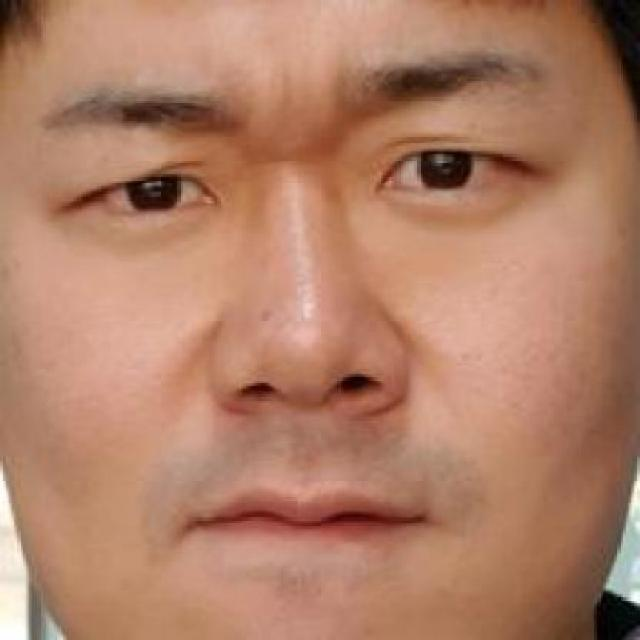angry: (64, 46, 553, 602)
